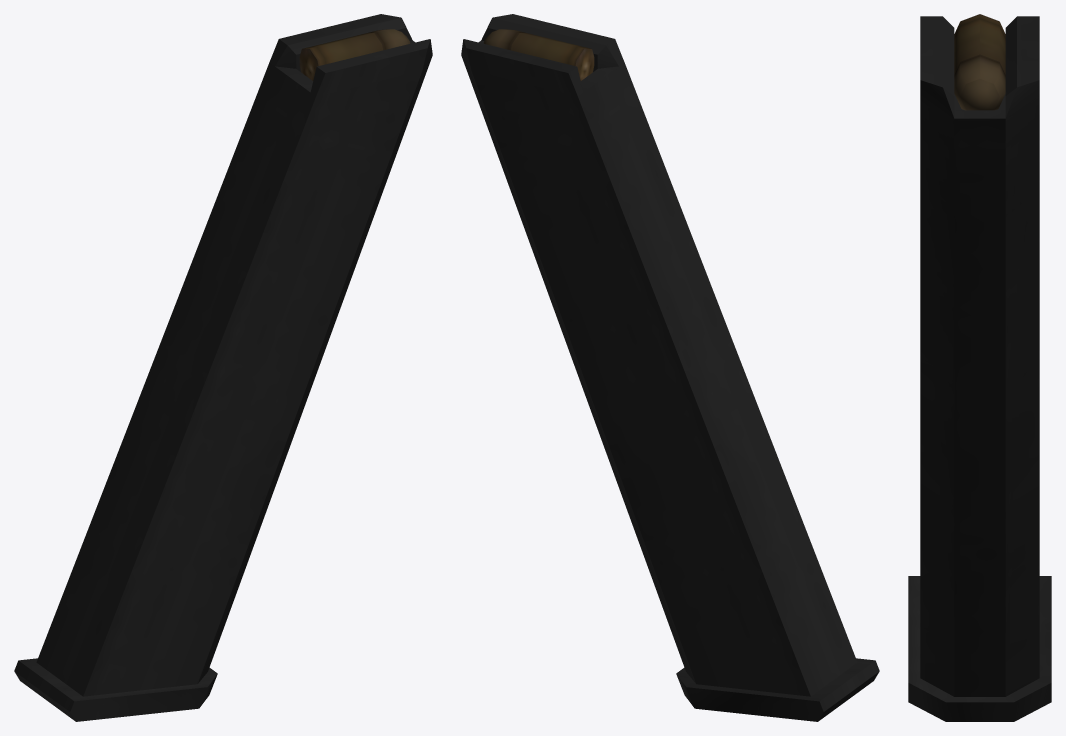
File: pistol_mp_1_1_mag_initial.dae
3 renders of one model, left to right at view 1: azimuth 30°, elevation 25°; view 2: azimuth 150°, elevation 25°; view 3: azimuth 270°, elevation 25°, orthographic. The views are drawn at different scales.
Parts seen in each view (by area): view 1: pistol_mp_1_1_mag_initial; view 2: pistol_mp_1_1_mag_initial; view 3: pistol_mp_1_1_mag_initial.
Boxes of the visible parts, <box> form: pistol_mp_1_1_mag_initial: <box>14,14,432,721</box>; pistol_mp_1_1_mag_initial: <box>461,14,879,721</box>; pistol_mp_1_1_mag_initial: <box>908,14,1051,721</box>.
Bounding box in the file's own units: 0.1411 × 0.036 × 0.2158.
2 materials, 2 textured.
